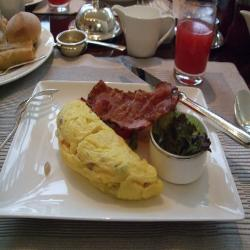bread: (1, 12, 38, 64)
omelette: (53, 104, 159, 201)
salad: (151, 116, 210, 164)
